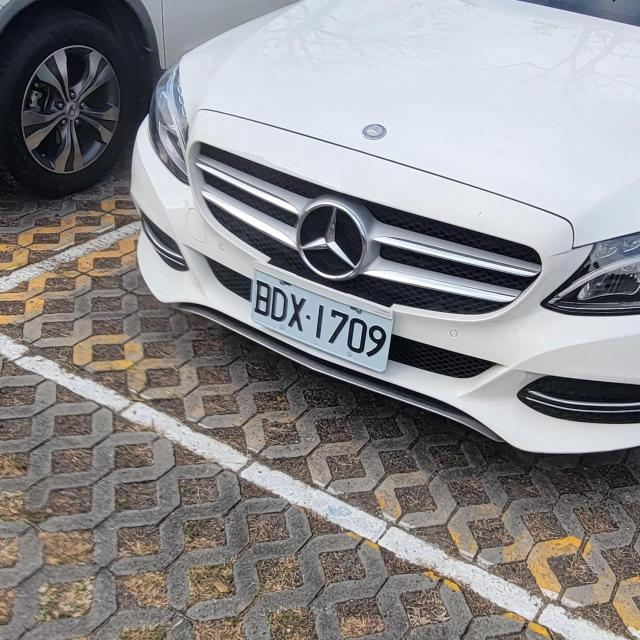W: (247, 265, 398, 373)
